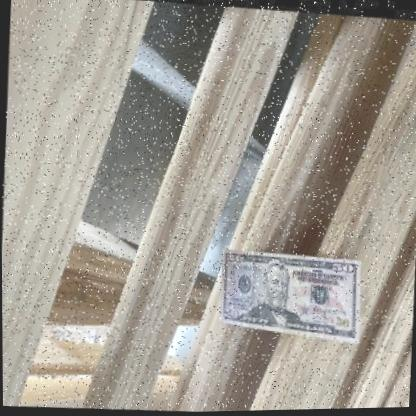dollar_front: (219, 247, 360, 340)
